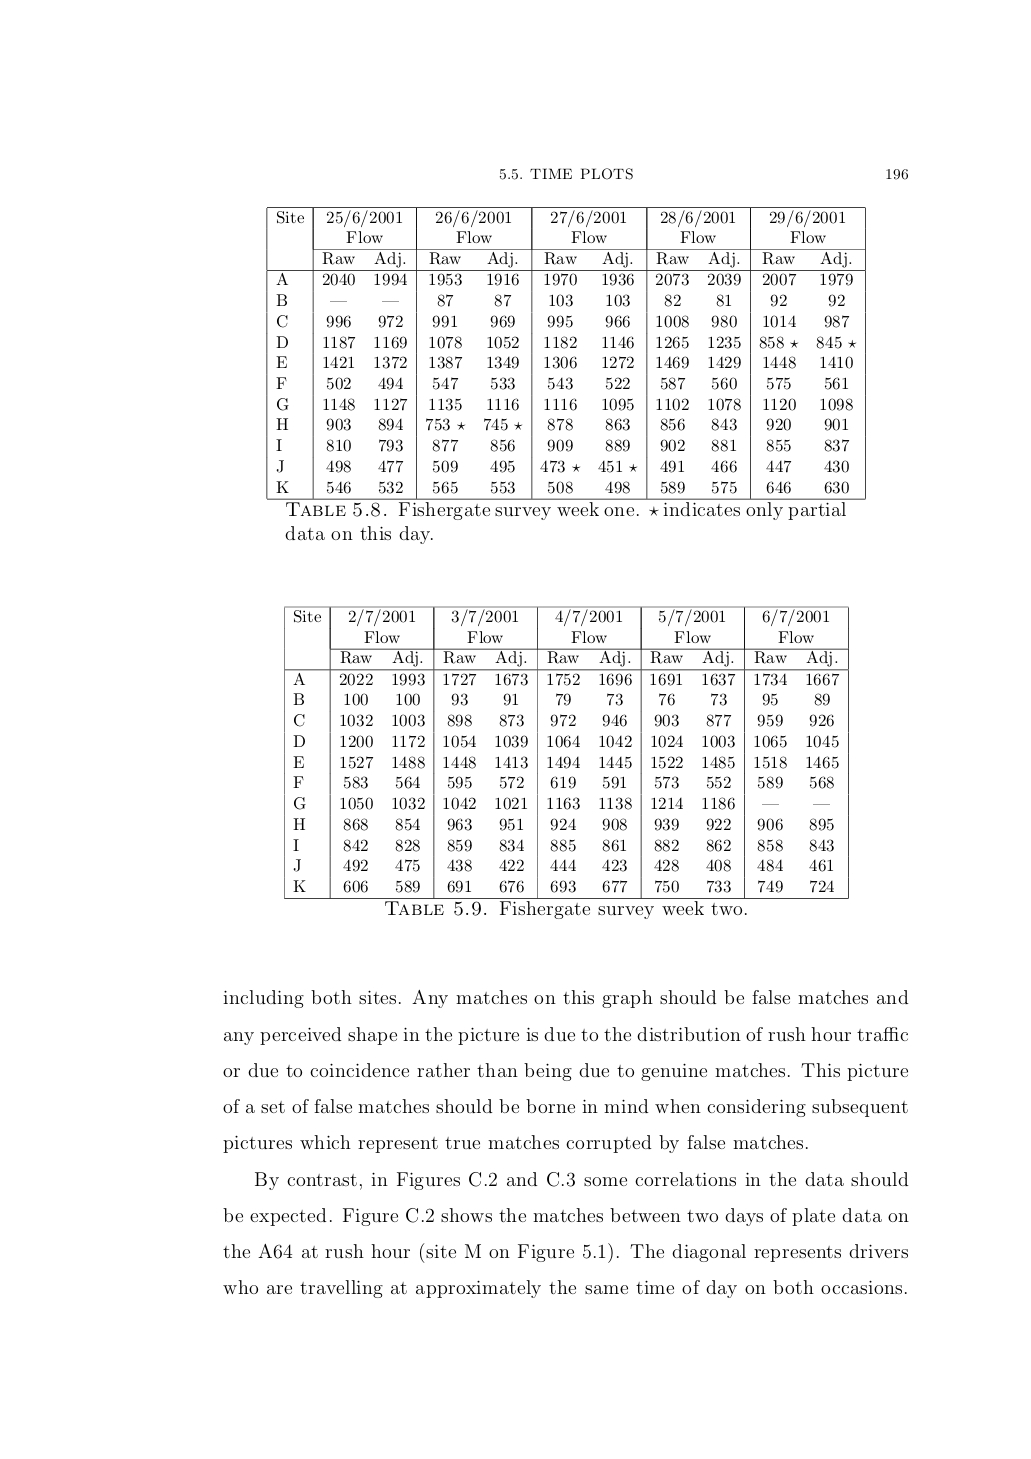Table: (266, 207, 865, 499), (285, 606, 848, 898)
